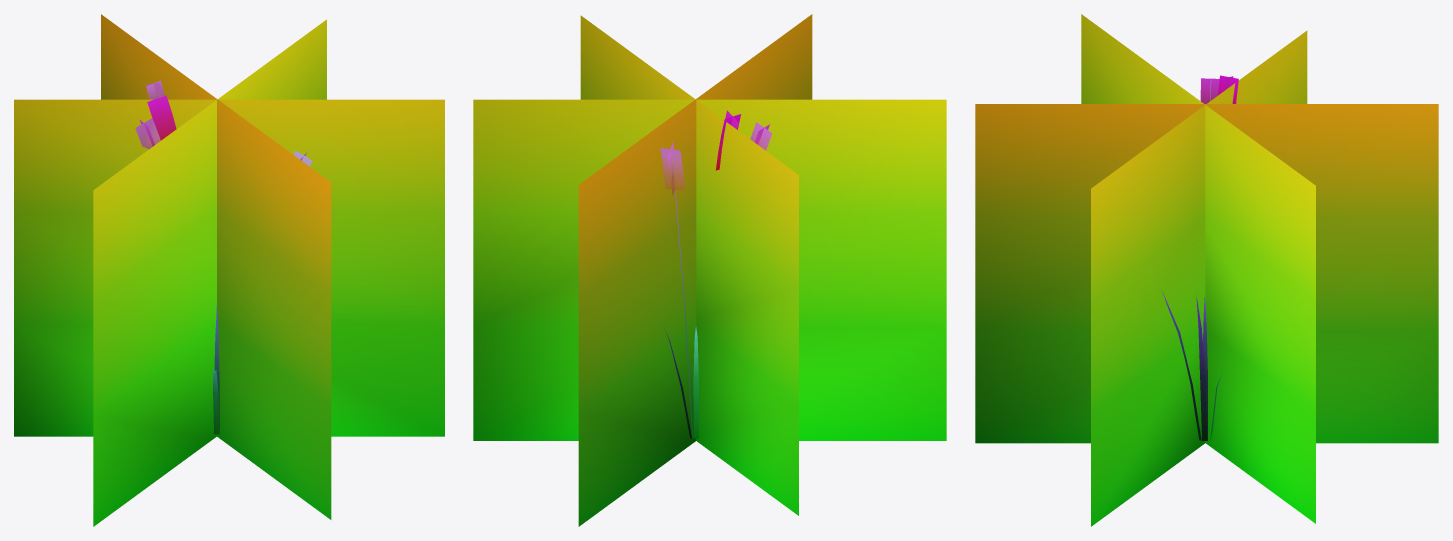
Rendered from Grass_Cogon_A.fbx.
3 views of the same model, side by side, from view 1: azimuth 30°, elevation 25°; view 2: azimuth 150°, elevation 25°; view 3: azimuth 270°, elevation 25° (orthographic).
Visible parts, largest first — view 1: Grass_Cogon_A_LOD0; view 2: Grass_Cogon_A_LOD0; view 3: Grass_Cogon_A_LOD0.
Boxes of the visible parts, x1,y1,x2,y2 form: Grass_Cogon_A_LOD0: [14, 14, 444, 526]; Grass_Cogon_A_LOD0: [473, 14, 946, 526]; Grass_Cogon_A_LOD0: [975, 14, 1438, 526].
Size of what is drawn, in the model's own units: 1.01 by 0.9291 by 1.13.
